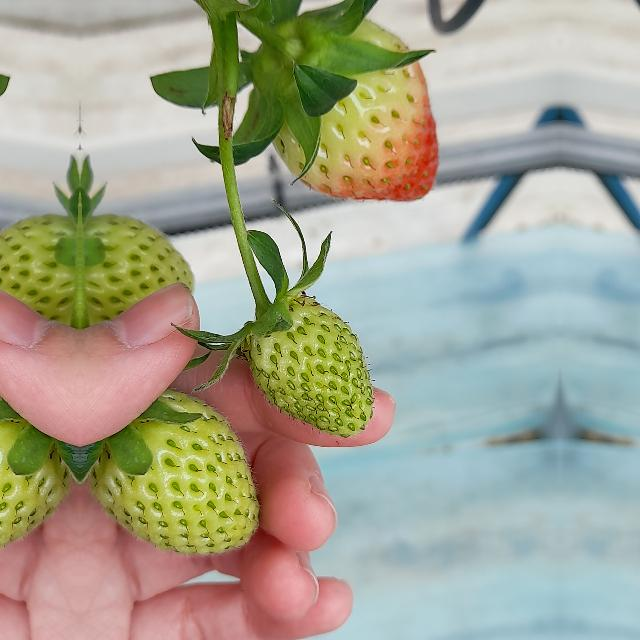Health_25: (80, 380, 260, 552), (248, 297, 372, 437), (83, 212, 197, 331), (0, 380, 79, 551), (0, 211, 77, 330)
Health_75: (251, 24, 444, 208)
